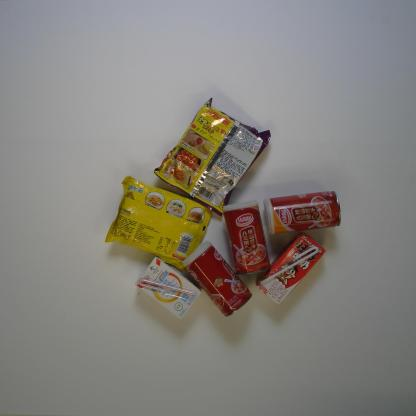Canned Food: (181, 239, 253, 317), (222, 198, 271, 276), (262, 189, 342, 236)
Instant Noodles: (153, 96, 272, 218), (103, 174, 213, 272)
Milk: (254, 230, 326, 307), (134, 255, 202, 321)
